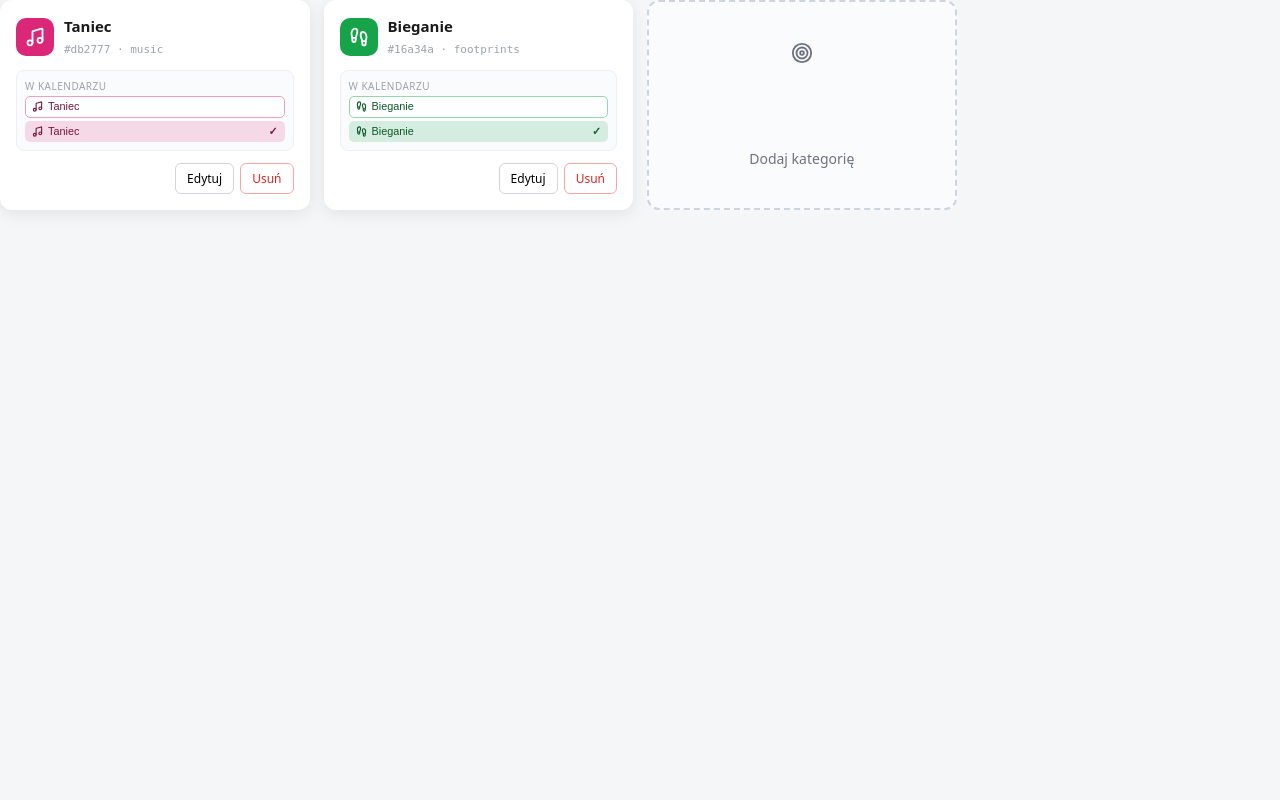
Scenario: AdminCategoriesPage › zapisana kategoria pojawia się na liście bez ponownego pobrania
This screenshot has width=1280, height=800.
Click the button "Dodaj kategorię" at [802, 159], box [647,0,956,210]
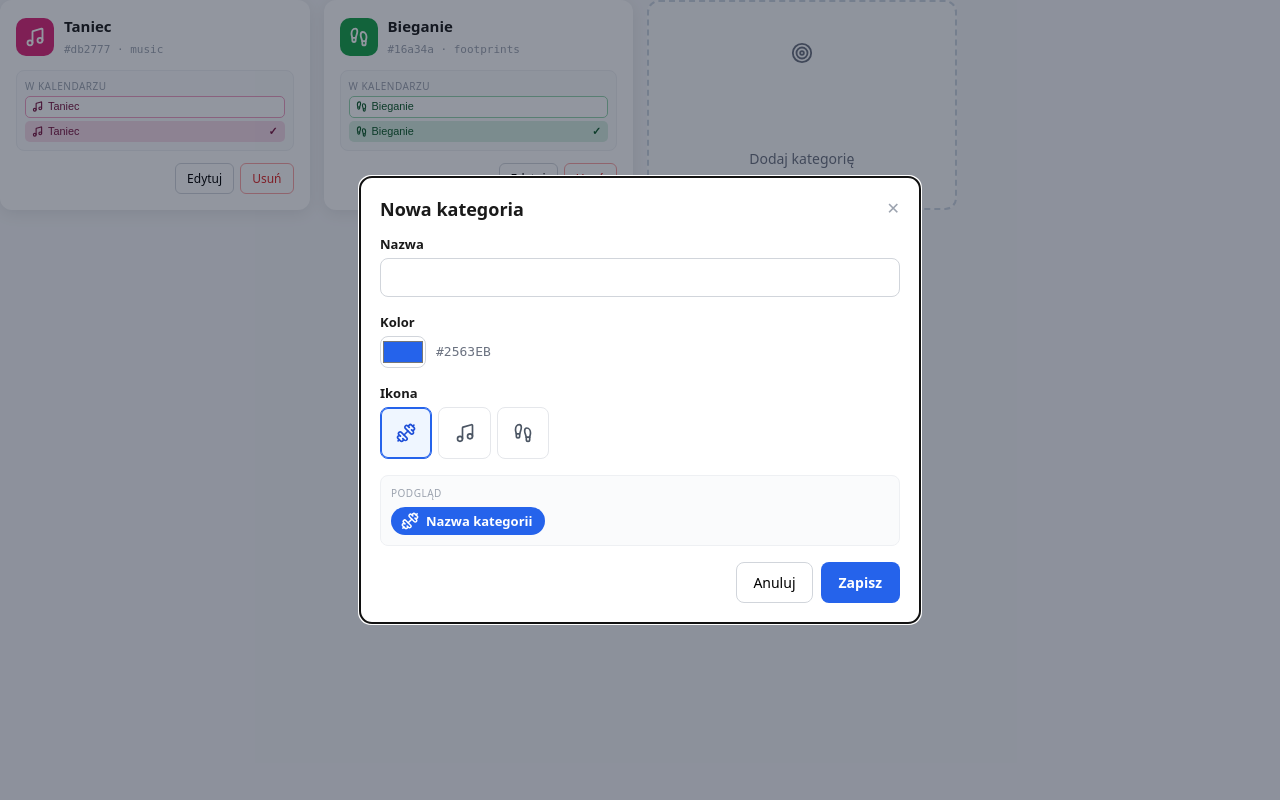
Type "Rower" into the field labelled "Nazwa" at [640, 277], box [380,258,900,297]
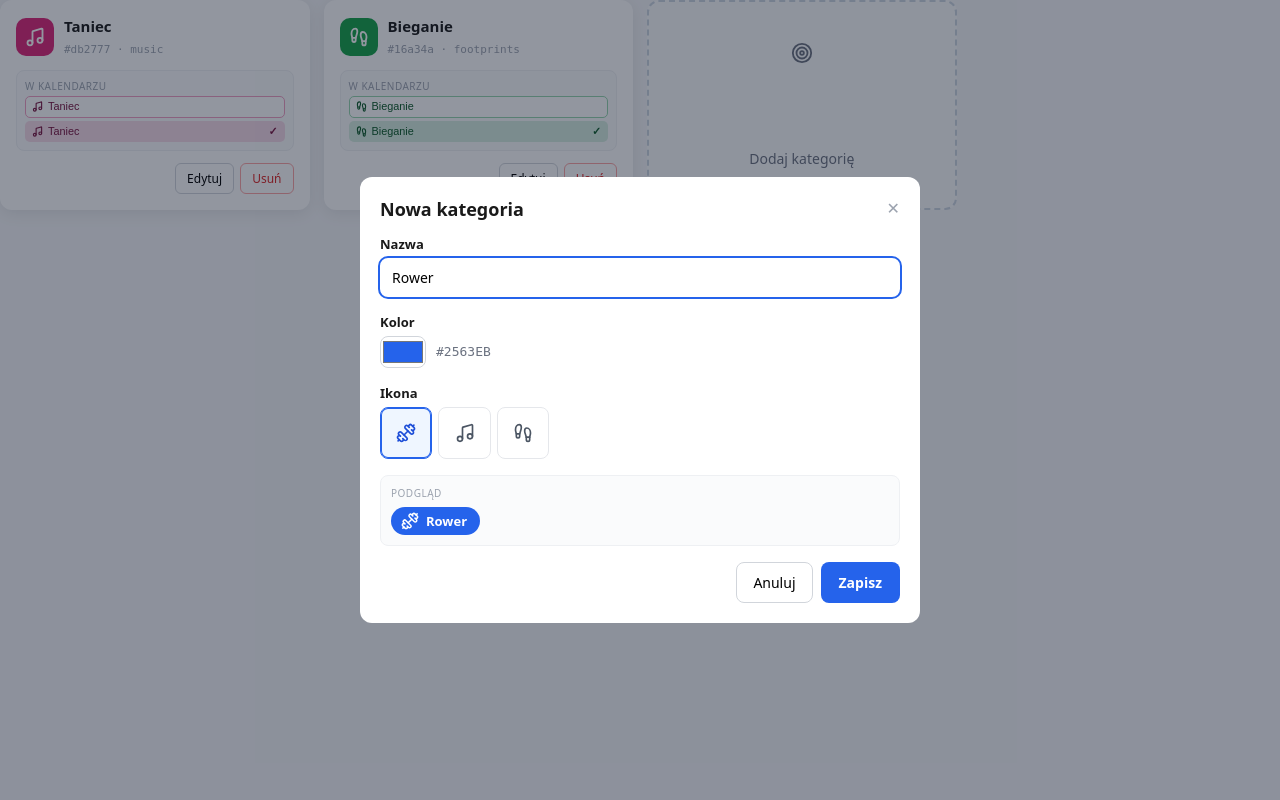
Click the button "Zapisz" at [860, 583], box [820,562,900,603]
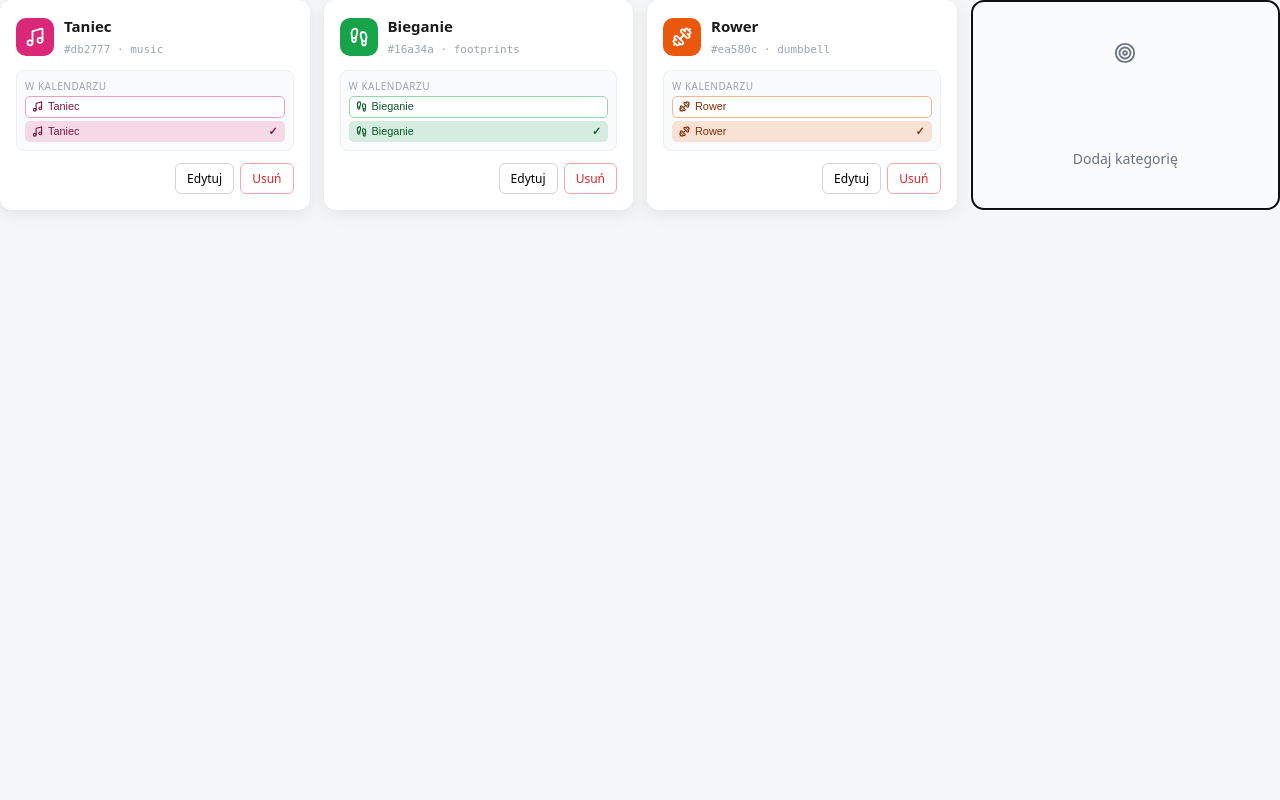
Result: the heading "Rower" is shown at [711,16,758,36]
